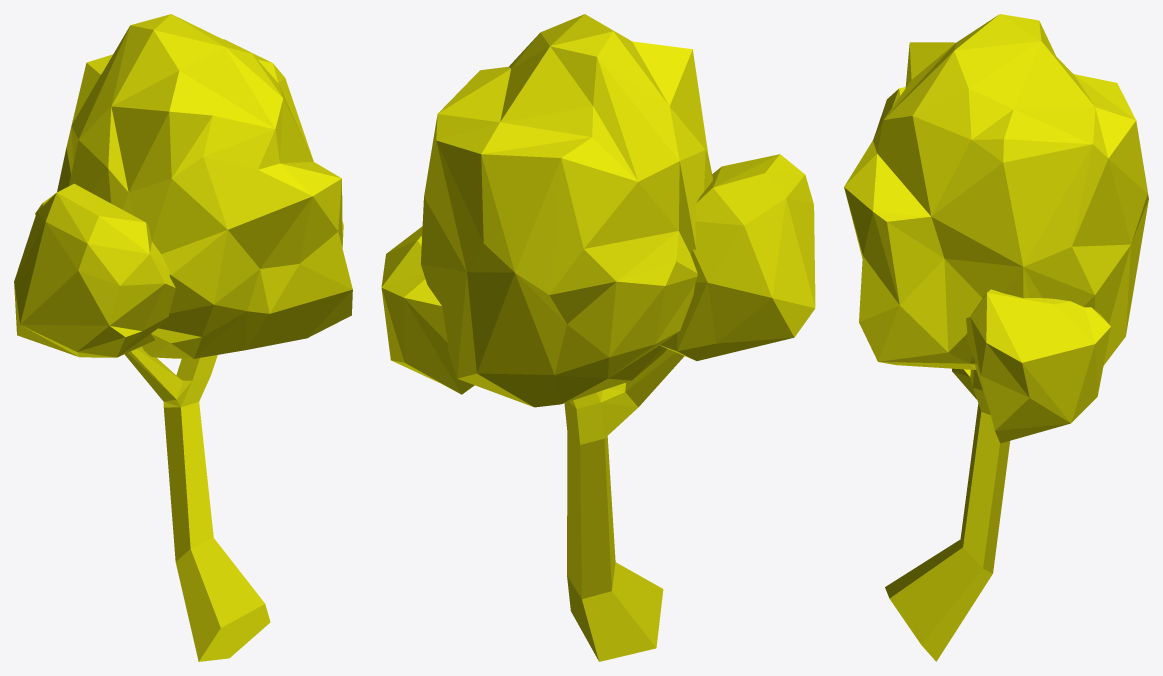
Rendered from SM_Prop_Tree_02.glb.
3 views of the same model, side by side, from view 1: azimuth 30°, elevation 25°; view 2: azimuth 150°, elevation 25°; view 3: azimuth 270°, elevation 25° (orthographic). The views are drawn at different scales.
Visible parts, largest first — view 1: SM_Prop_Tree_02; view 2: SM_Prop_Tree_02; view 3: SM_Prop_Tree_02.
Part boxes in pixels (x1=…): SM_Prop_Tree_02: x1=14, y1=14, x2=352, y2=661; SM_Prop_Tree_02: x1=381, y1=14, x2=815, y2=661; SM_Prop_Tree_02: x1=844, y1=14, x2=1148, y2=661.
Size of the model in its own units: 0.1622 by 0.2659 by 0.1174.
